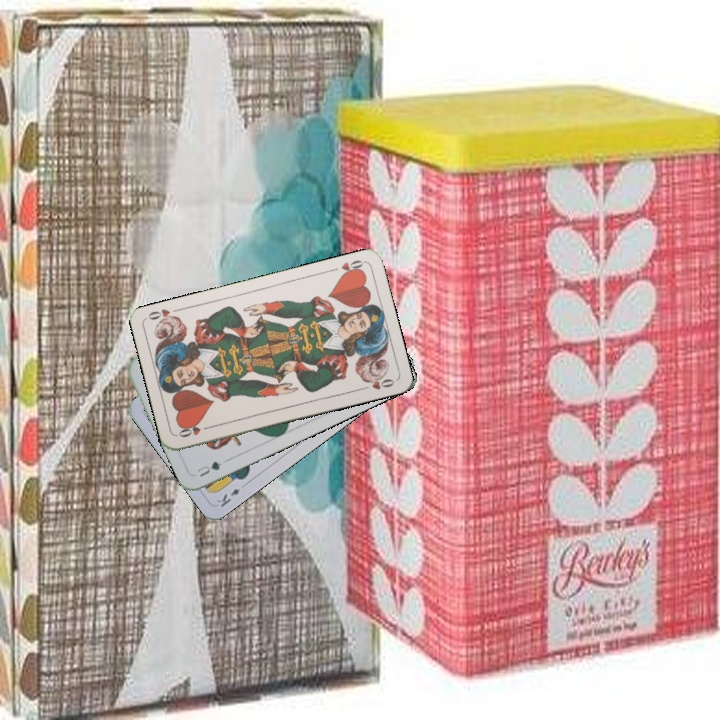EK: (212, 484, 243, 510)
GU: (193, 457, 224, 480)
HO: (326, 256, 366, 279), (174, 421, 214, 440)
